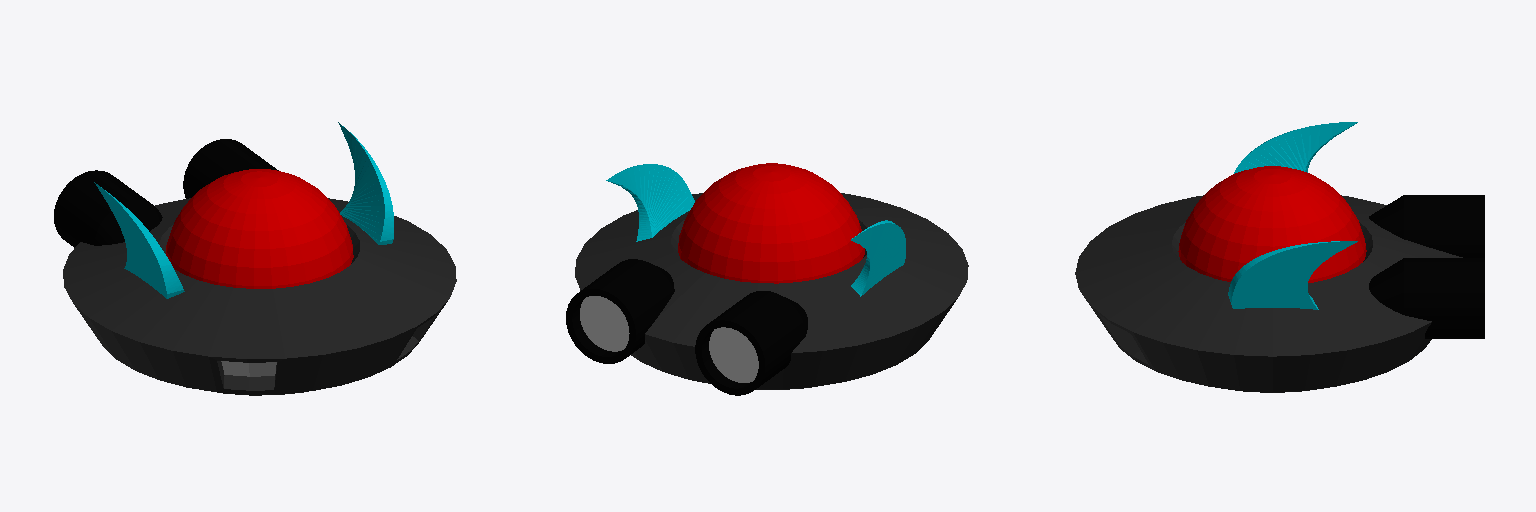
Rendered from spaceShip2.obj.
The picture shows the model from 3 angles: view 1: azimuth 30°, elevation 25°; view 2: azimuth 150°, elevation 25°; view 3: azimuth 270°, elevation 25°; orthographic projection.
Visible parts, largest first — view 1: spaceShip2_Cylinder; view 2: spaceShip2_Cylinder; view 3: spaceShip2_Cylinder.
Boxes of the visible parts, x1=… form: spaceShip2_Cylinder: x1=54, y1=122, x2=456, y2=395; spaceShip2_Cylinder: x1=566, y1=163, x2=968, y2=395; spaceShip2_Cylinder: x1=1075, y1=122, x2=1484, y2=392.
Bounding box in the file's own units: 2 × 0.9077 × 2.08.